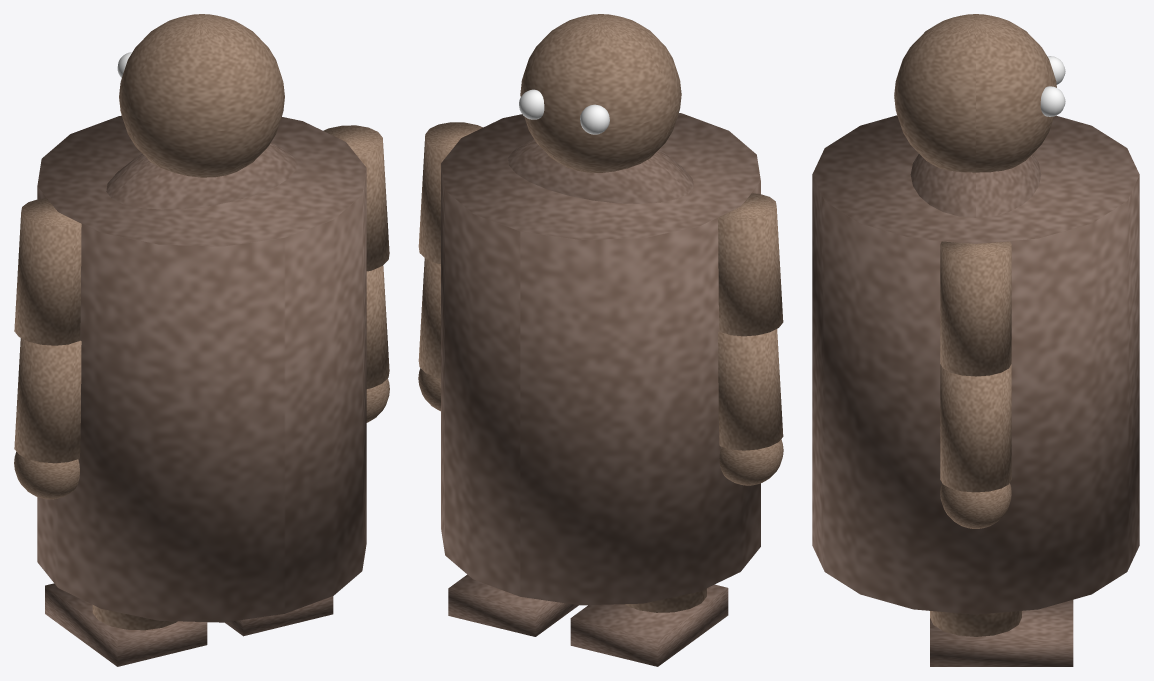
File: tzitzimitl.glb
3 views of the same model, side by side, from view 1: azimuth 30°, elevation 25°; view 2: azimuth 150°, elevation 25°; view 3: azimuth 270°, elevation 25° (orthographic). The views are drawn at different scales.
Parts seen in each view (by area): view 1: Robe, Head, UpperArmL, ForearmL, Torso, FootL, UpperArmR, ForearmR, HandL, FootR, ShinL, HandR; view 2: Robe, Head, UpperArmL, ForearmL, FootL, Torso, FootR, UpperArmR, ForearmR, HandL, ShinL, Eye (+2 smaller); view 3: Robe, Head, UpperArmR, ForearmR, FootR, Torso, HandR, ShinR, Eye.001.
Part boxes in pixels (box(x1,y1,x2,y2)): Robe: box(37, 115, 366, 622); Head: box(119, 14, 284, 177); UpperArmL: box(14, 198, 81, 345); ForearmL: box(14, 338, 81, 463); Torso: box(106, 142, 297, 209); FootL: box(45, 583, 207, 666); UpperArmR: box(323, 125, 389, 271); ForearmR: box(366, 265, 389, 388); HandL: box(14, 452, 79, 499); FootR: box(225, 596, 333, 636); ShinL: box(92, 605, 177, 630); HandR: box(366, 378, 389, 422); Robe: box(441, 113, 760, 605); Head: box(520, 14, 681, 172); UpperArmL: box(718, 193, 783, 336); ForearmL: box(718, 329, 783, 450); FootL: box(570, 584, 728, 666); Torso: box(508, 139, 693, 203); FootR: box(448, 574, 578, 636); UpperArmR: box(418, 122, 482, 263); ForearmR: box(418, 258, 440, 378); HandL: box(719, 439, 783, 485); ShinL: box(625, 588, 706, 612); Eye: box(580, 104, 609, 134); Robe: box(812, 115, 1139, 614); Head: box(894, 14, 1056, 172); UpperArmR: box(940, 241, 1011, 376); ForearmR: box(940, 364, 1011, 492); FootR: box(930, 600, 1073, 666); Torso: box(910, 154, 1041, 217); HandR: box(940, 483, 1011, 528); ShinR: box(930, 611, 1021, 636); Eye.001: box(1040, 86, 1065, 116).
Bounding box in the file's own units: 0.6367 × 1 × 0.5.
Materials: 3 (2 with a texture image).
